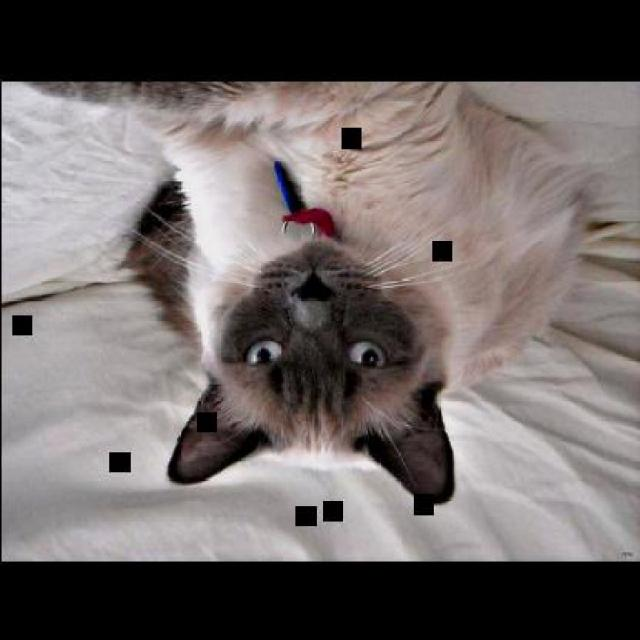unauthorized: (22, 80, 604, 505)
